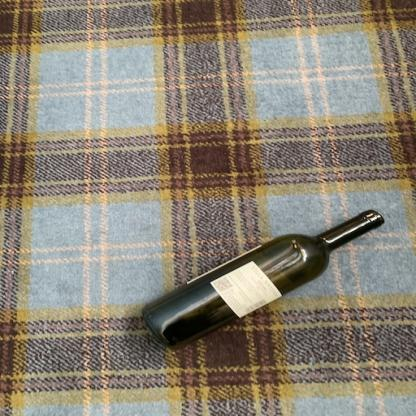trash: (137, 208, 386, 351)
